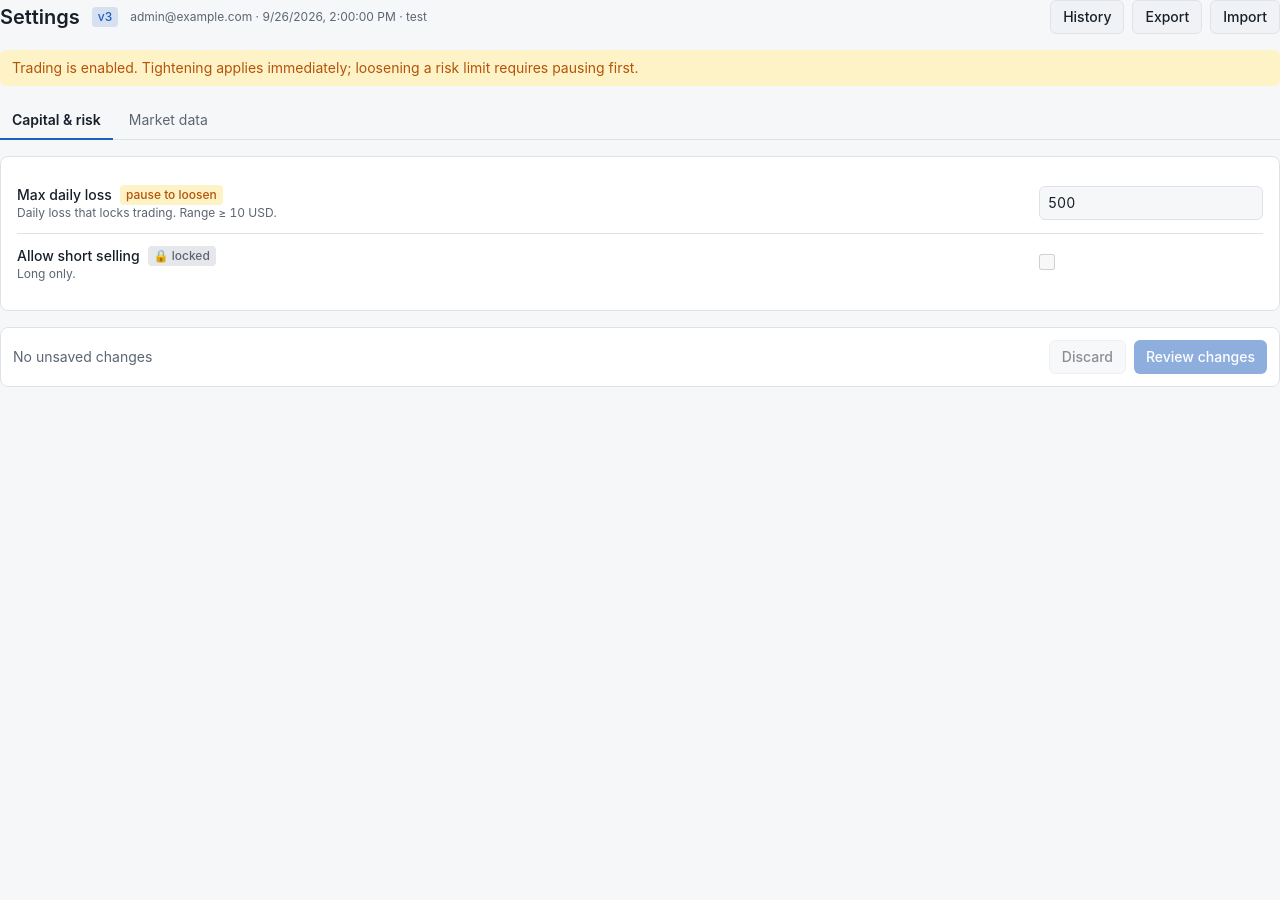
Test case: SettingsEditor › tracks unsaved changes and blocks saving a loosening change while running
Replace the text in the field labelled "Max daily loss pause to loosen" with "600" at point(1151, 203), box [1039, 186, 1263, 220]
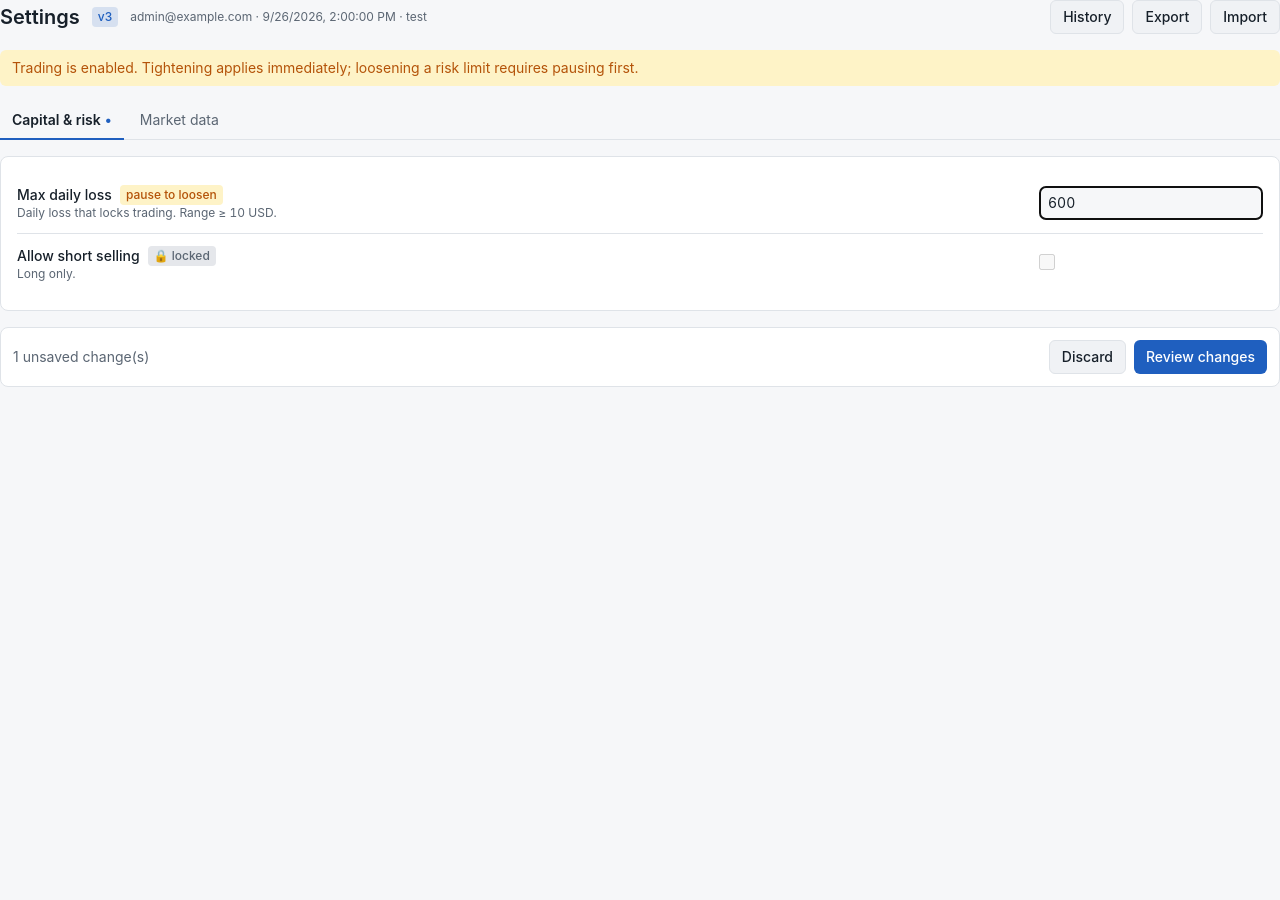
Now the text "1 unsaved change(s)" is shown, box [13, 347, 149, 367]
Click the button "Review changes" at point(1200, 357), box [1134, 340, 1267, 374]
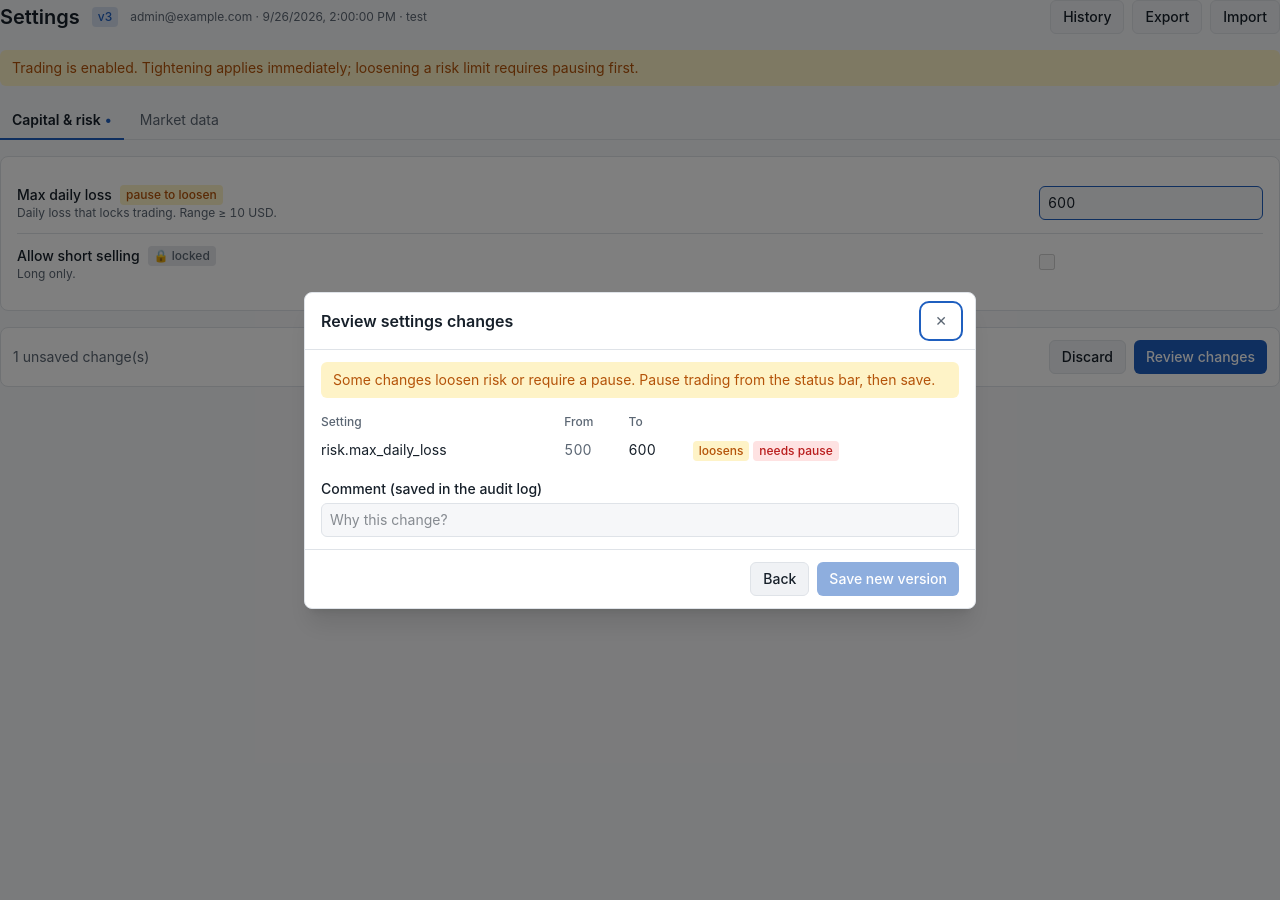
Now the text "loosens" is shown, box [693, 440, 749, 460]
Now the text "Pause trading from the status bar" is shown, box [333, 370, 935, 388]
Now the button "Save new version" is disabled, box [817, 562, 959, 596]
